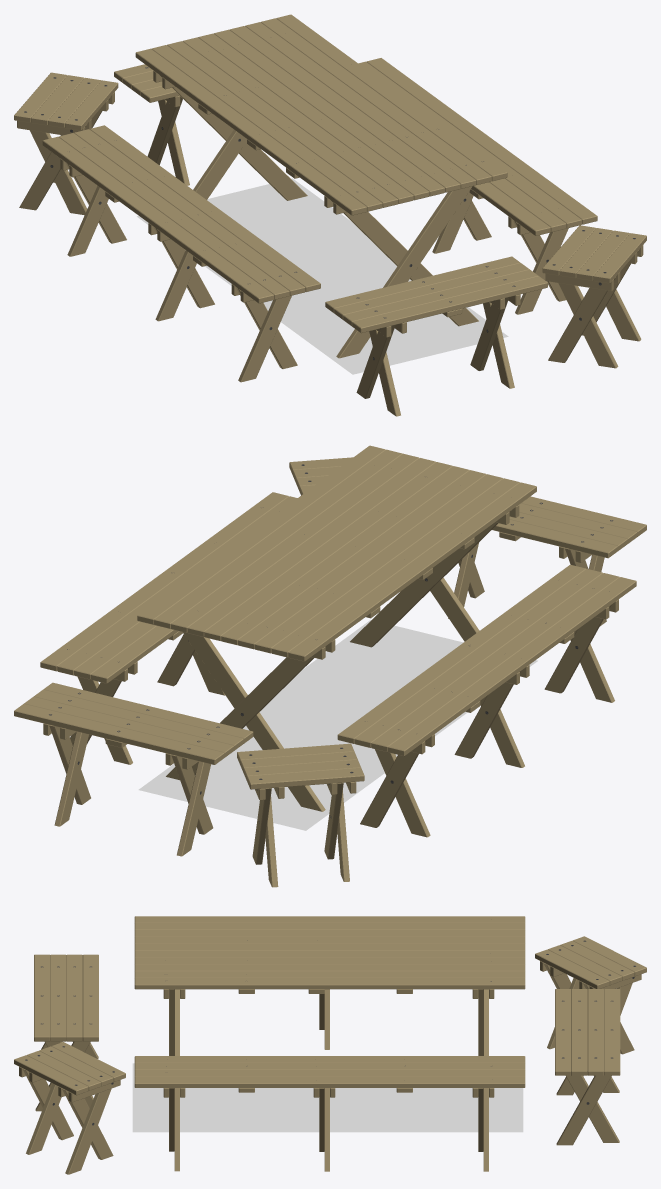
File: Outdoor Furniture_02_fbx.FBX
3 views of the same model, one above another, from view 1: azimuth 30°, elevation 25°; view 2: azimuth 150°, elevation 25°; view 3: azimuth 270°, elevation 25° (orthographic). The views are drawn at different scales.
Visible parts, largest first — view 1: Arch_Object_01, Arch_Object_22, Arch_Object_19, Arch_Object_31, Arch_Object_26, Arch_Object_17, Arch_Object_20, Arch_Object_25, Arch_Object_28, Arch_Object_18, Arch_Object_03, Arch_Object_21 (+33 smaller); view 2: Arch_Object_01, Arch_Object_22, Arch_Object_19, Arch_Object_32, Arch_Object_35, Arch_Object_03, Arch_Object_20, Arch_Object_21, Arch_Object_24, Arch_Object_17, Arch_Object_27, Arch_Object_29 (+31 smaller); view 3: Arch_Object_01, Arch_Object_35, Arch_Object_28, Arch_Object_23, Arch_Object_24, Arch_Object_25, Arch_Object_26, Arch_Object_27, Arch_Object_37, Arch_Object_39, Arch_Object_20, Arch_Object_41 (+31 smaller).
Boxes of the visible parts, left/top/right/bottom form: Arch_Object_01: left=137, top=178, right=508, bottom=374; Arch_Object_22: left=135, top=48, right=366, bottom=215; Arch_Object_19: left=42, top=136, right=273, bottom=303; Arch_Object_31: left=329, top=186, right=478, bottom=358; Arch_Object_26: left=245, top=22, right=476, bottom=188; Arch_Object_17: left=74, top=129, right=305, bottom=295; Arch_Object_20: left=167, top=41, right=398, bottom=207; Arch_Object_25: left=198, top=33, right=429, bottom=200; Arch_Object_28: left=276, top=14, right=507, bottom=181; Arch_Object_18: left=58, top=133, right=289, bottom=299; Arch_Object_03: left=89, top=125, right=320, bottom=291; Arch_Object_21: left=151, top=45, right=382, bottom=211; Arch_Object_01: left=138, top=620, right=537, bottom=830; Arch_Object_22: left=288, top=482, right=536, bottom=661; Arch_Object_19: left=388, top=577, right=636, bottom=756; Arch_Object_32: left=166, top=632, right=326, bottom=811; Arch_Object_35: left=40, top=492, right=288, bottom=671; Arch_Object_03: left=337, top=564, right=585, bottom=743; Arch_Object_20: left=254, top=474, right=502, bottom=653; Arch_Object_21: left=271, top=478, right=519, bottom=657; Arch_Object_24: left=204, top=462, right=452, bottom=640; Arch_Object_17: left=354, top=569, right=602, bottom=747; Arch_Object_27: left=187, top=458, right=435, bottom=636; Arch_Object_29: left=154, top=449, right=402, bottom=628; Arch_Object_01: left=132, top=1063, right=523, bottom=1132; Arch_Object_35: left=134, top=1076, right=525, bottom=1087; Arch_Object_28: left=134, top=978, right=525, bottom=989; Arch_Object_23: left=134, top=936, right=525, bottom=943; Arch_Object_24: left=134, top=950, right=525, bottom=957; Arch_Object_25: left=134, top=943, right=525, bottom=950; Arch_Object_26: left=134, top=964, right=525, bottom=971; Arch_Object_27: left=134, top=957, right=525, bottom=964; Arch_Object_37: left=134, top=1063, right=525, bottom=1069; Arch_Object_39: left=134, top=1070, right=525, bottom=1076; Arch_Object_20: left=134, top=930, right=525, bottom=936; Arch_Object_41: left=134, top=1056, right=525, bottom=1062.
Size of the model in its own units: 68.34 by 117 by 30.
